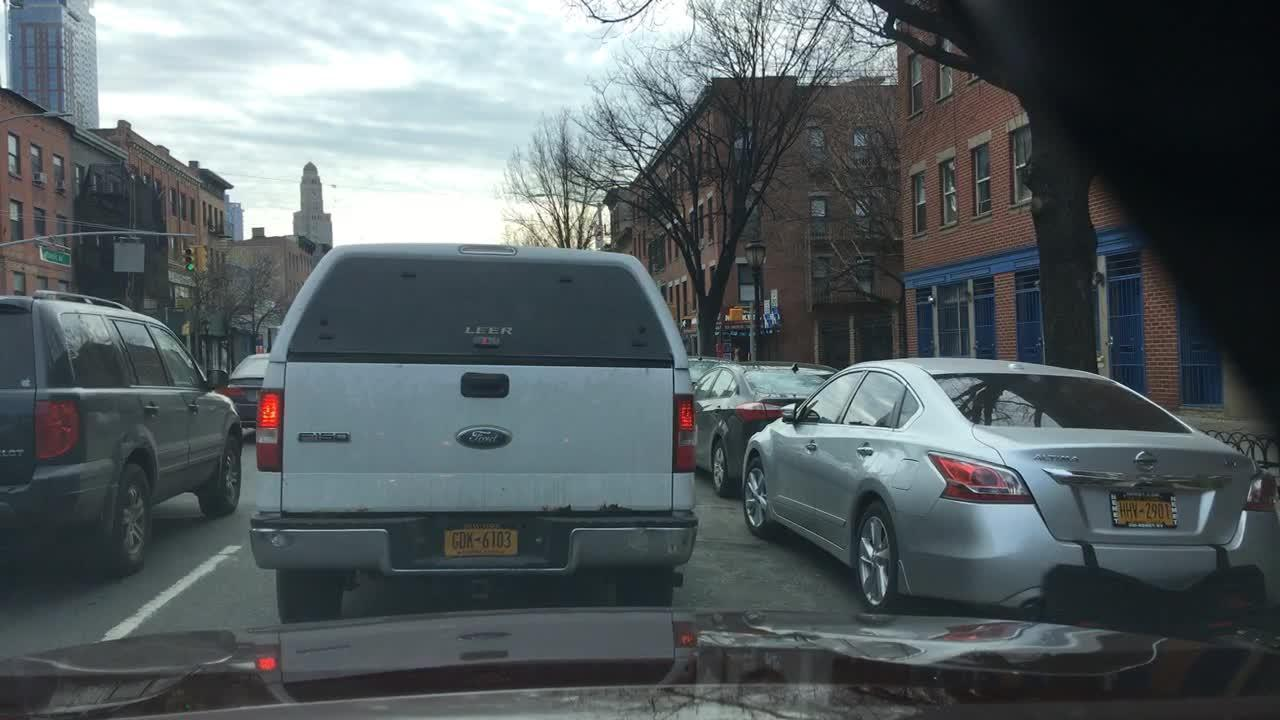Nissan: (1129, 447, 1162, 474)
ford: (456, 423, 517, 459)
